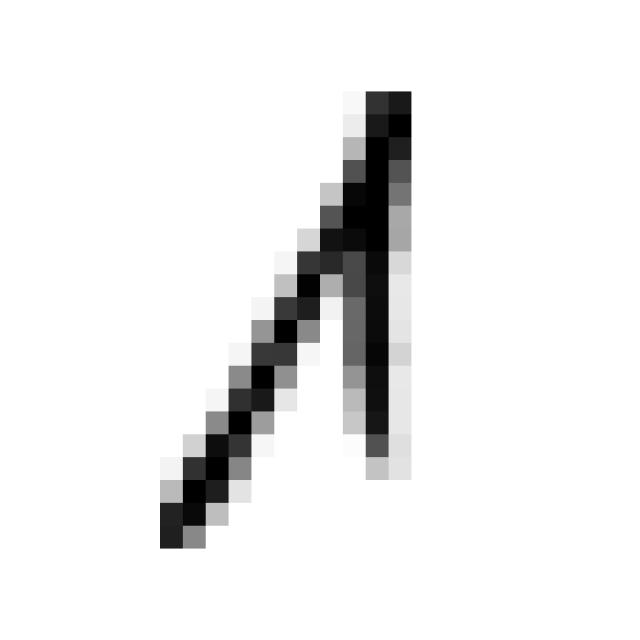8 -eight-: (128, 64, 431, 566)
